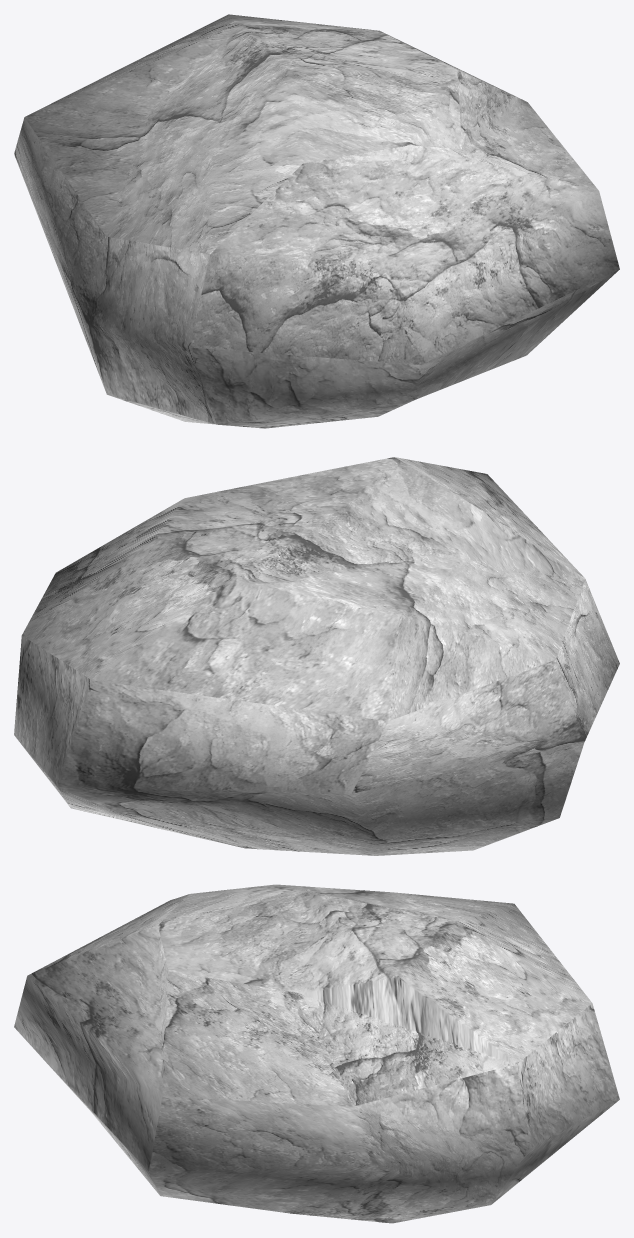
The model's file is Rock_02.fbx.
The picture shows the model from 3 angles, top to bottom: view 1: azimuth 30°, elevation 25°; view 2: azimuth 150°, elevation 25°; view 3: azimuth 270°, elevation 25°; orthographic projection. The views are drawn at different scales.
Parts seen in each view (by area): view 1: Rock_02; view 2: Rock_02; view 3: Rock_02.
Boxes of the visible parts, left/top/right/bottom form: Rock_02: left=14, top=14, right=619, bottom=428; Rock_02: left=14, top=457, right=619, bottom=855; Rock_02: left=14, top=884, right=619, bottom=1223.
Bounding box in the file's own units: 1621 × 981 × 1892.
